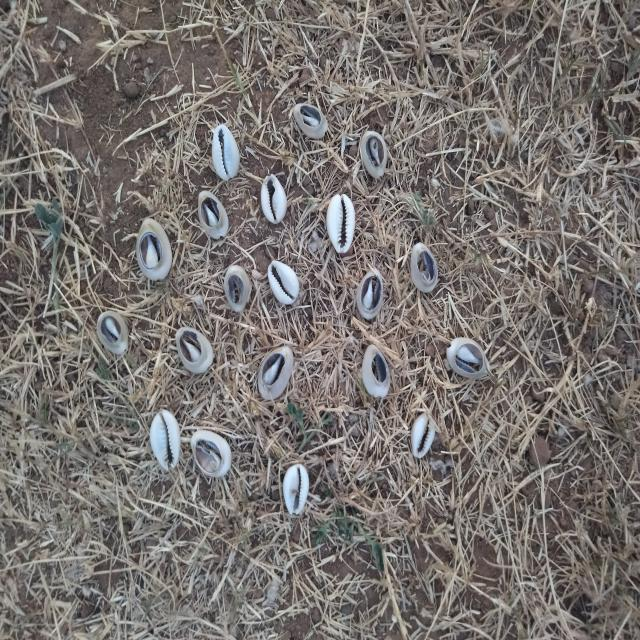facedown: (134, 213, 174, 283), (170, 322, 217, 379), (255, 341, 296, 406), (444, 334, 494, 384), (190, 429, 234, 481), (195, 187, 232, 242), (359, 343, 394, 399), (357, 125, 391, 181), (94, 309, 132, 357), (354, 267, 388, 320), (409, 242, 442, 294), (222, 263, 252, 317), (291, 102, 330, 141)
faceup: (146, 405, 182, 474), (325, 192, 359, 256), (208, 123, 242, 182), (264, 258, 303, 309), (280, 462, 313, 518), (258, 172, 288, 226), (408, 411, 439, 459)
